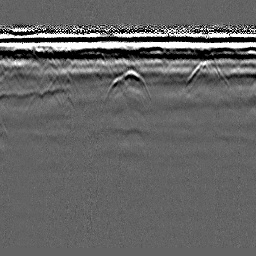cavity: (105, 67, 152, 101)
